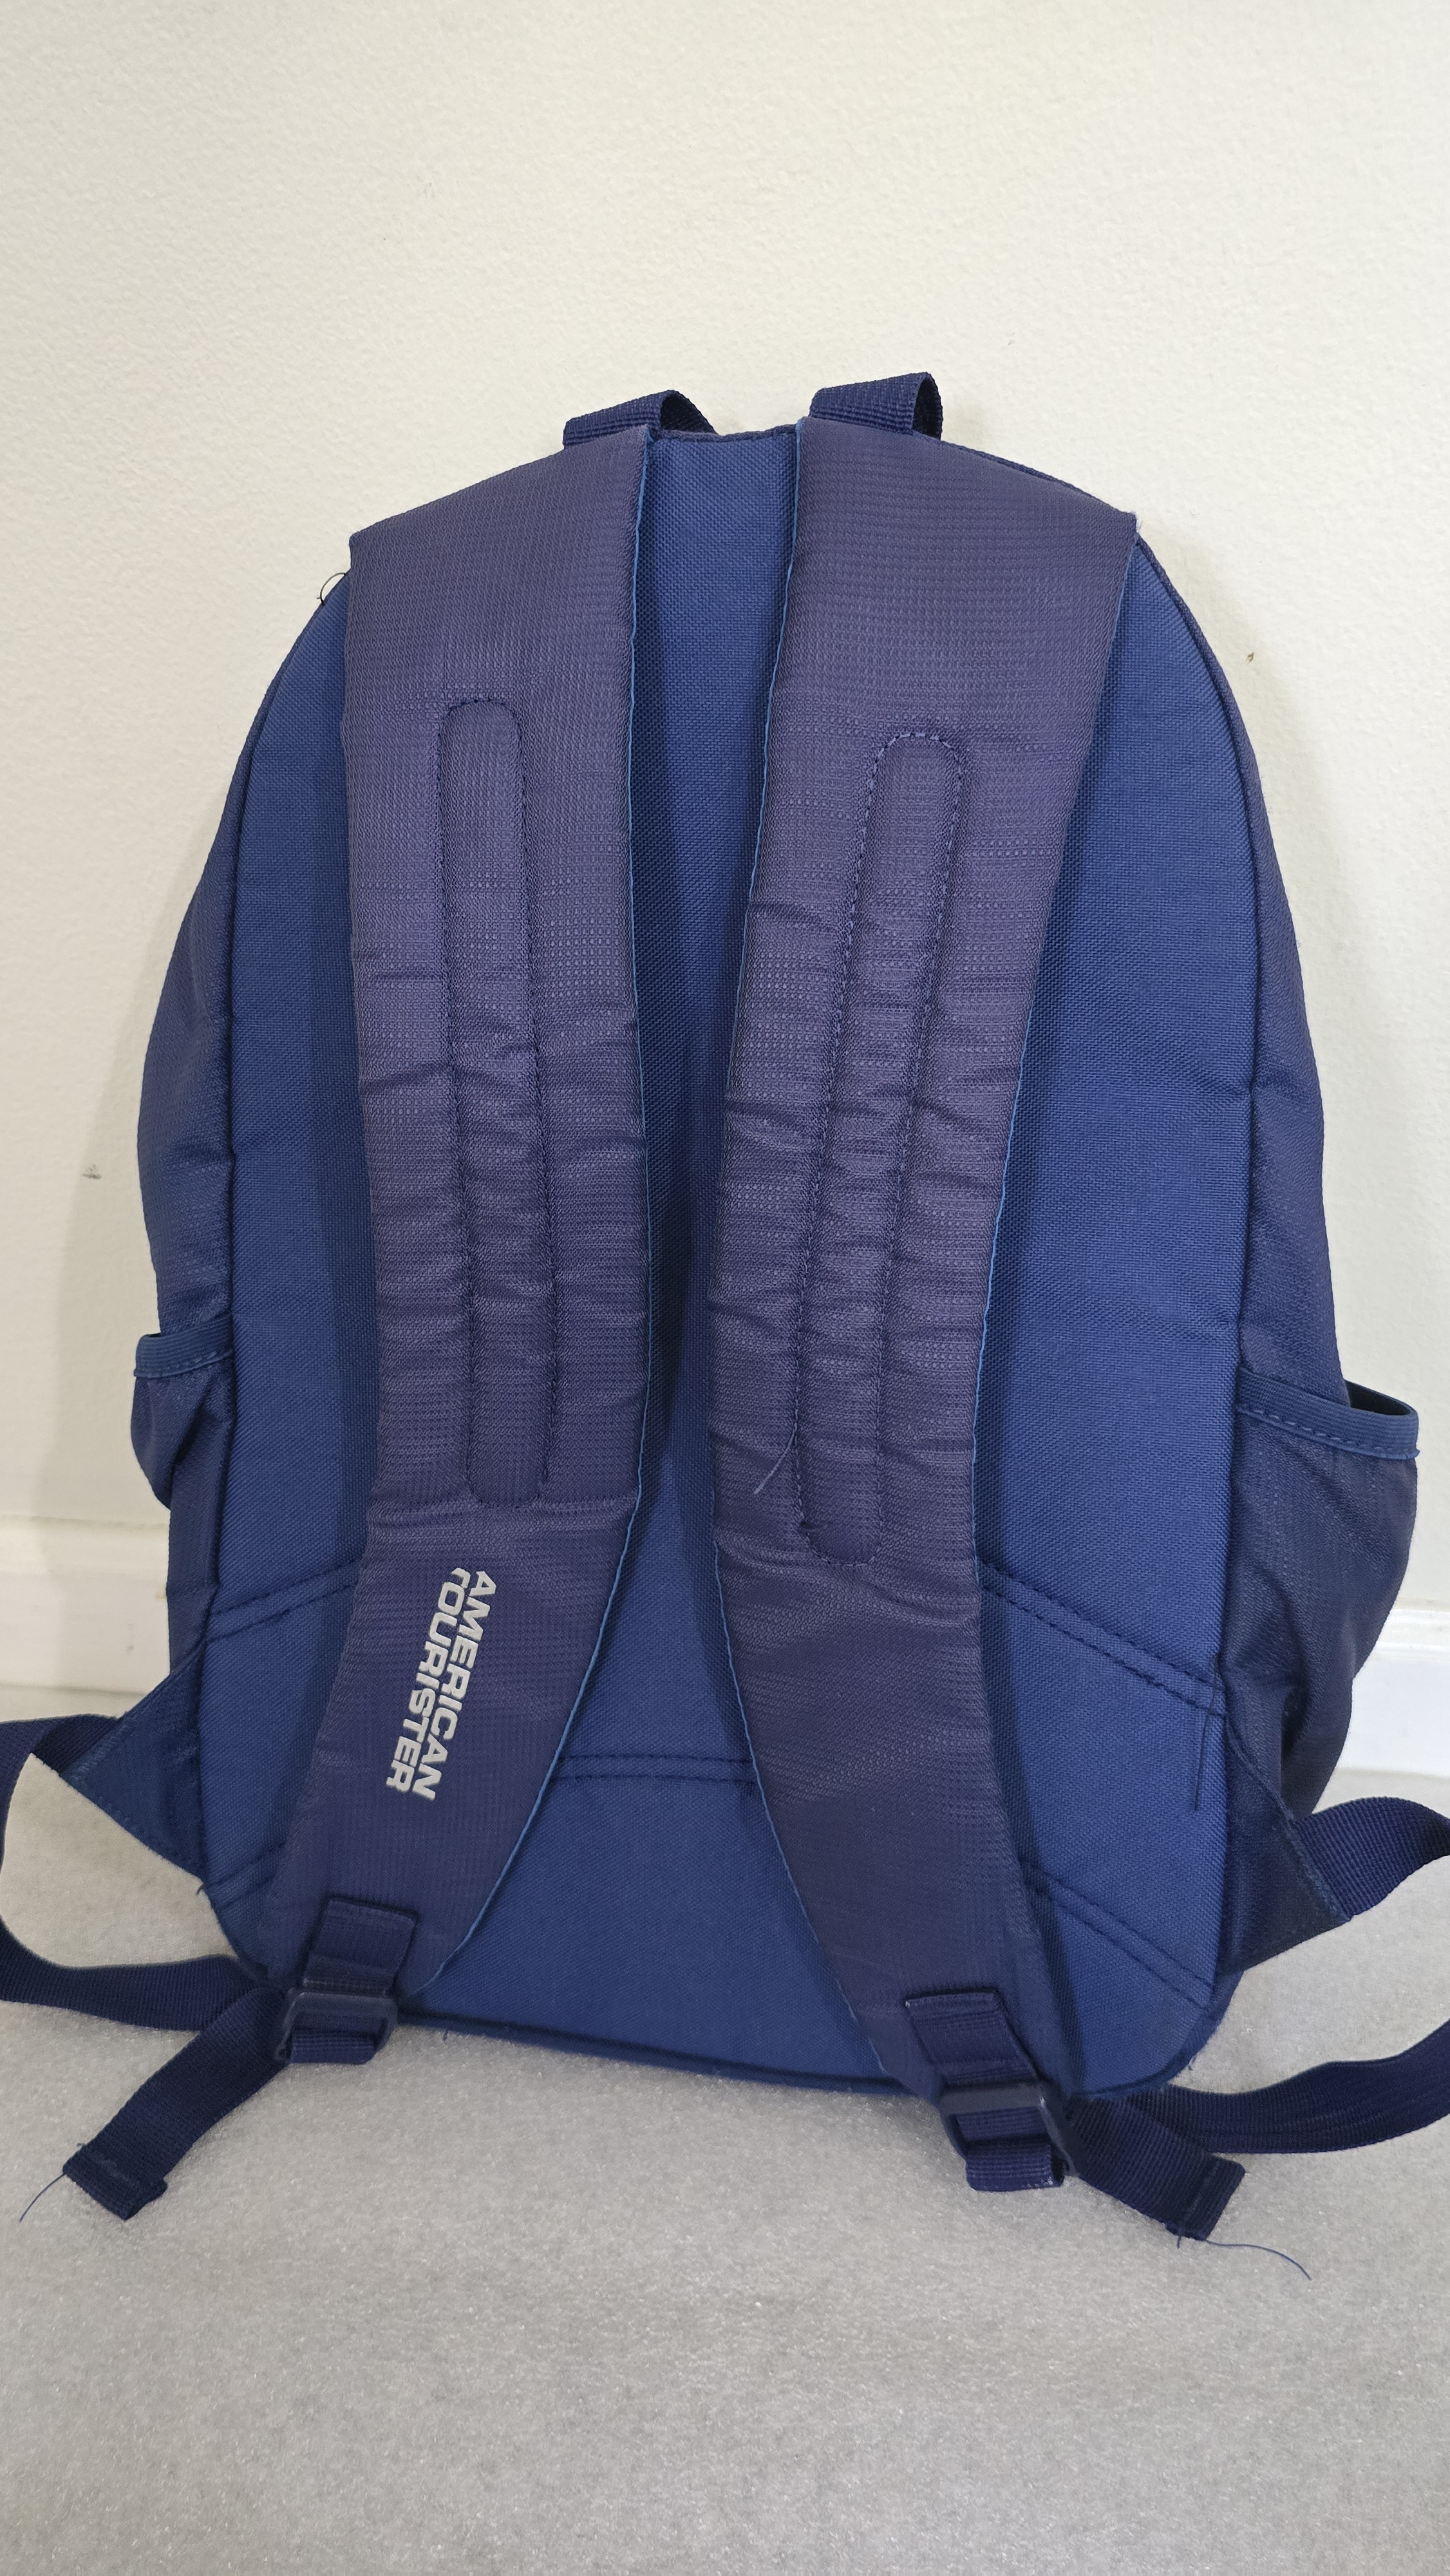bag: (141, 363, 1420, 2208)
